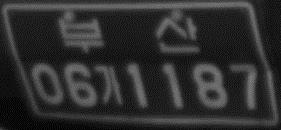0: (29, 61, 65, 107)
1: (123, 58, 150, 110), (159, 58, 186, 109)
6: (64, 61, 98, 109)
7: (228, 62, 260, 112)
8: (191, 60, 228, 112)
가: (94, 62, 125, 106)
부산_D: (54, 14, 199, 55)
